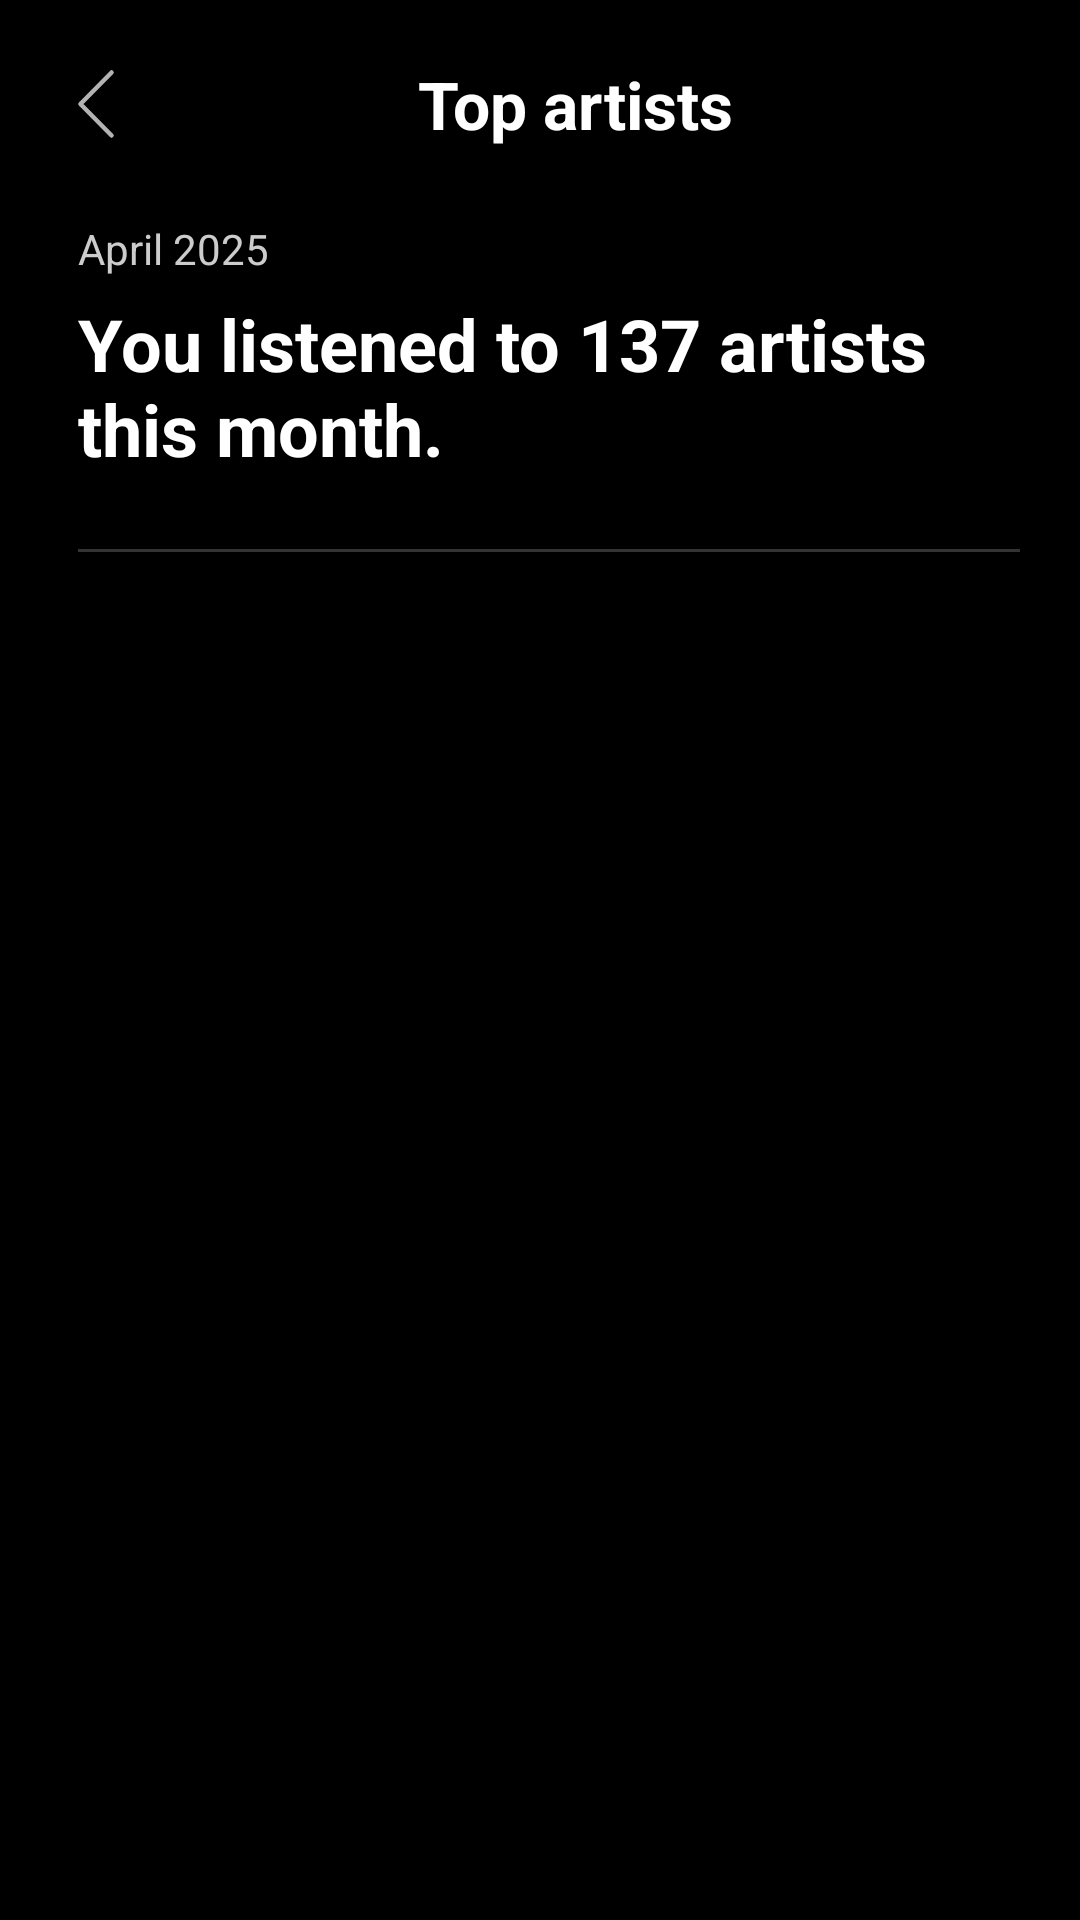

Where icons sit on this 1080px x 1920px app screen, as BBox(x1, y1, x2, y2):
back chevron: BBox(78, 70, 114, 138)
